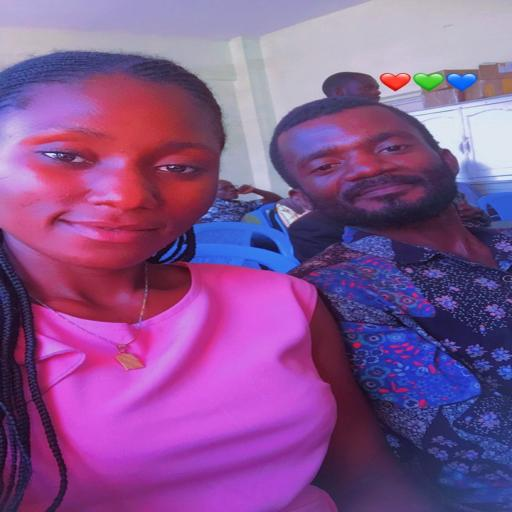MATTHIEU: (249, 93, 452, 234)
